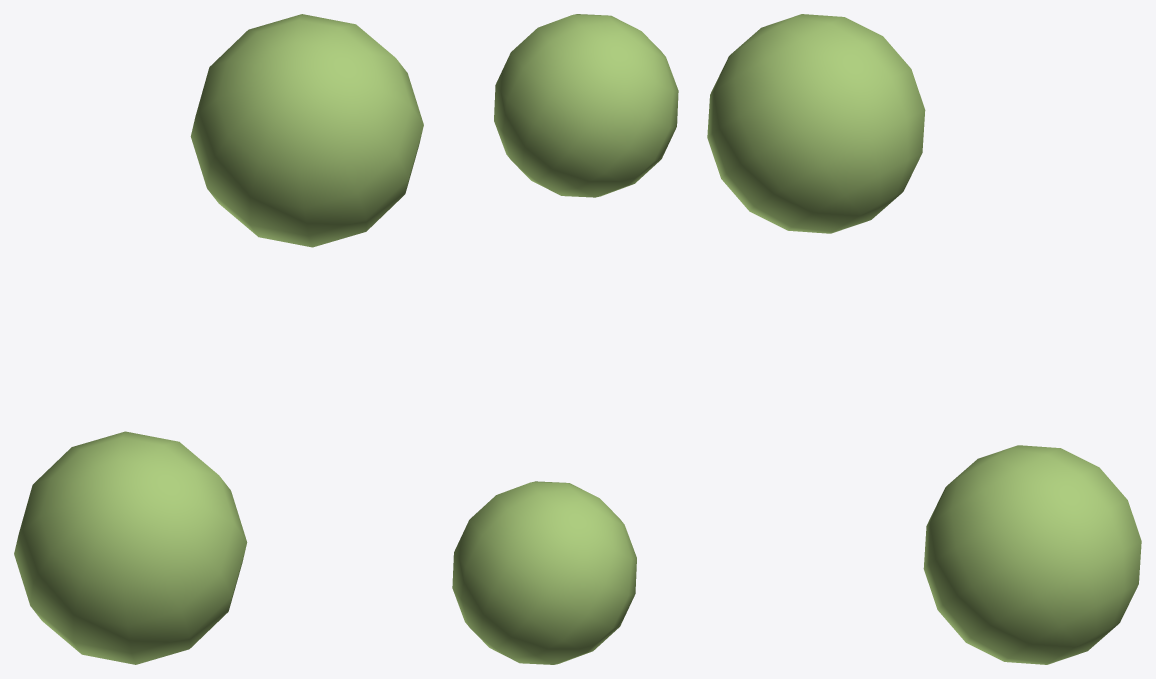
Rendered from central-axillary-nodes-r.glb.
The picture shows the model from 3 angles, left to right: view 1: azimuth 30°, elevation 25°; view 2: azimuth 150°, elevation 25°; view 3: azimuth 270°, elevation 25°; orthographic projection. The views are drawn at different scales.
Visible parts, largest first — view 1: Central axillary nodes.r; view 2: Central axillary nodes.r; view 3: Central axillary nodes.r.
Part boxes in pixels (x1=…): Central axillary nodes.r: x1=14, y1=14, x2=423, y2=664; Central axillary nodes.r: x1=452, y1=14, x2=678, y2=664; Central axillary nodes.r: x1=707, y1=14, x2=1141, y2=664.
Size of the model in its own units: 0.00339 by 0.00853 by 0.00509.
